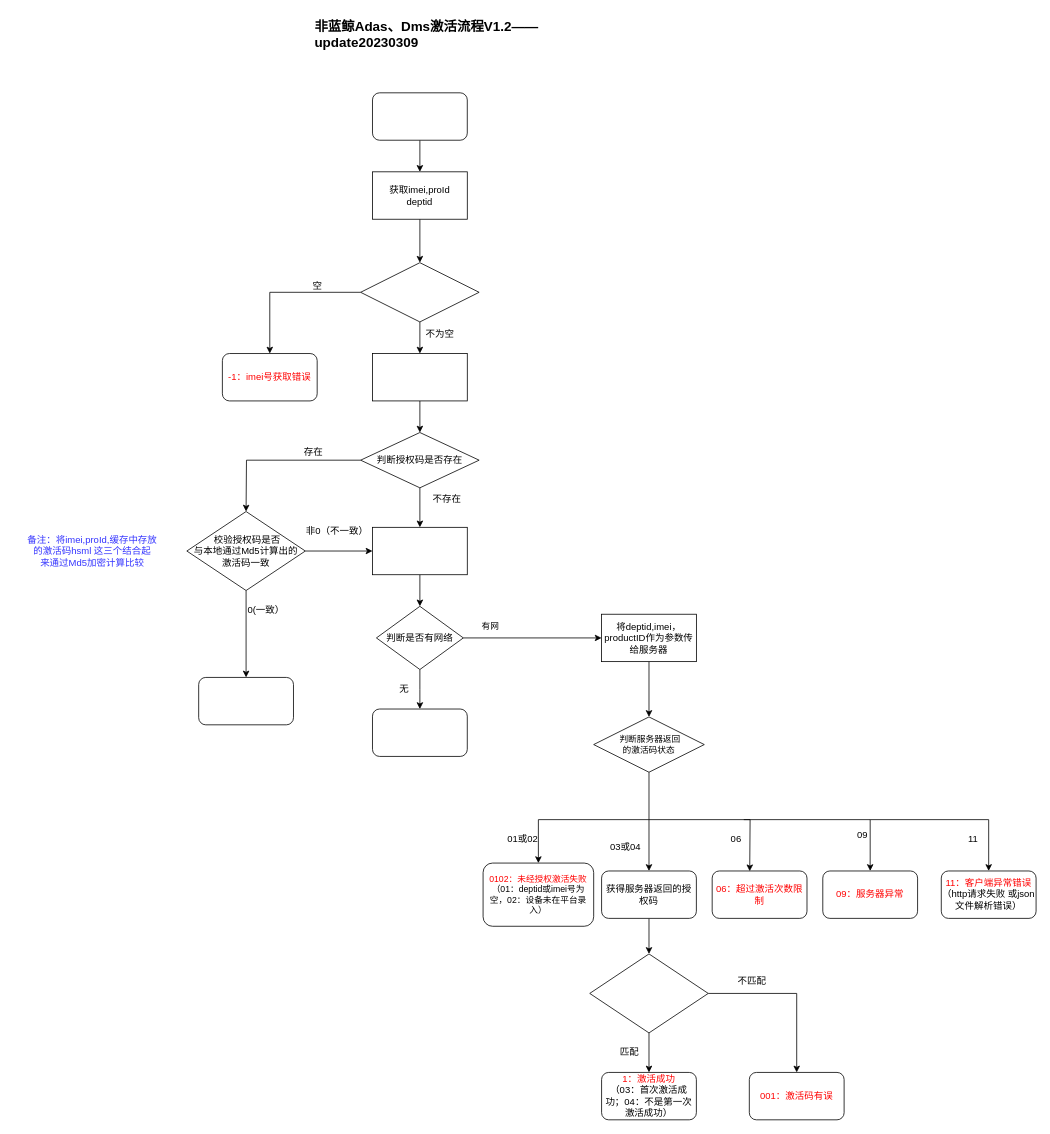
This 1050x1134 diagram has some shape labels left out. Here are the shapes that lost their labels. From the top down, the centre of each, then its label:
At pixel 419 116: "算法激活".
At pixel 419 292: "判断imei是否为空".
At pixel 419 377: "获取应用缓存数据中的授权码".
At pixel 419 551: "获取网络状态".
At pixel 245 701: "10：激活成功".
At pixel 419 732: "05：网络状态不可用".
At pixel 648 993: "校验授权码是否与 本地通过Md5计算出的 激活码一致".
